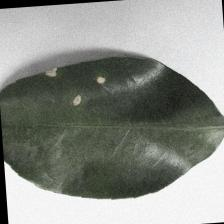canker: (40, 61, 108, 106)
